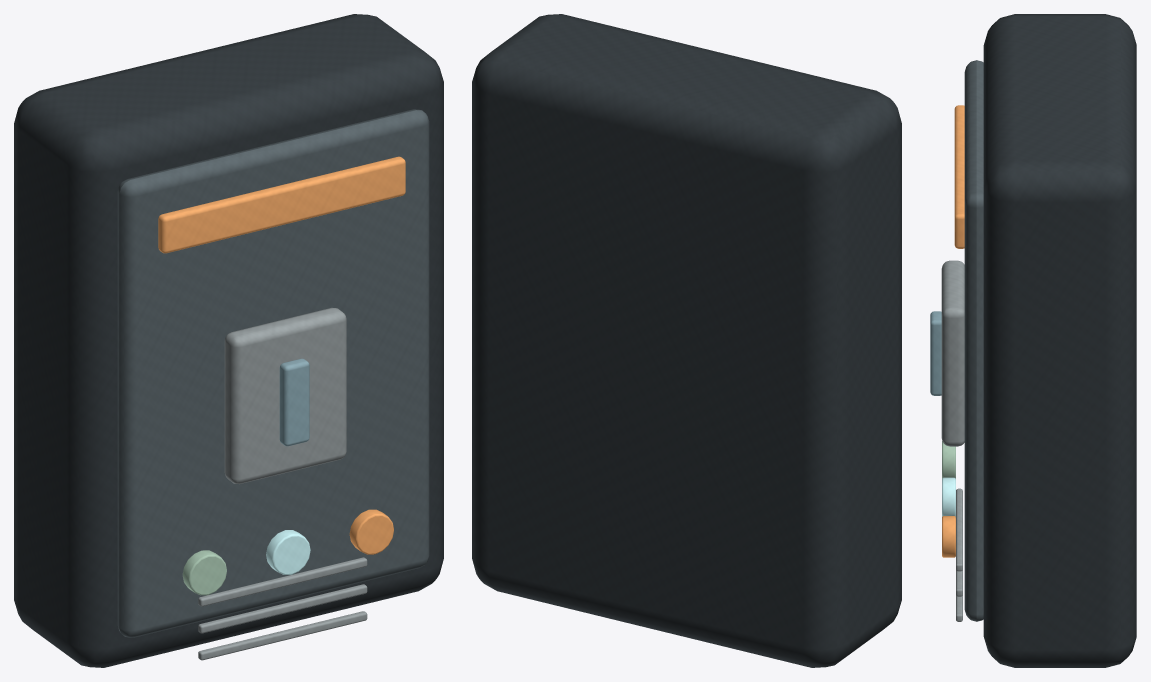
File: PowerJunction.glb
The picture shows the model from 3 angles, left to right: view 1: azimuth 30°, elevation 25°; view 2: azimuth 150°, elevation 25°; view 3: azimuth 270°, elevation 25°; orthographic projection. The views are drawn at different scales.
Visible parts, largest first — view 1: PowerJunction_Mesh; view 2: PowerJunction_Mesh; view 3: PowerJunction_Mesh.
Part boxes in pixels (x1,y1,x2,y2): PowerJunction_Mesh: (14,14,443,667); PowerJunction_Mesh: (472,14,901,667); PowerJunction_Mesh: (930,14,1136,667).
Size of the model in its own units: 0.58 by 0.8 by 0.297.
Materials: 7 (7 with a texture image).
